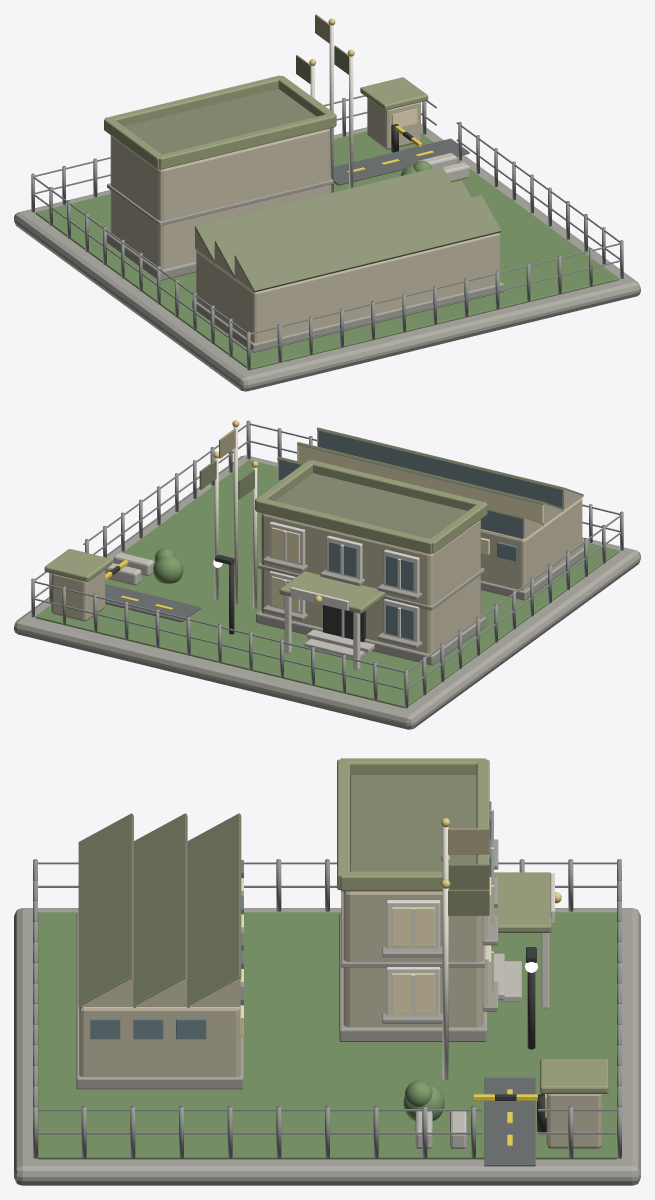
Rendered from treasury_6.glb.
The picture shows the model from 3 angles, top to bottom: view 1: azimuth 30°, elevation 25°; view 2: azimuth 150°, elevation 25°; view 3: azimuth 270°, elevation 25°; orthographic projection. The views are drawn at different scales.
Visible parts, largest first — view 1: Cube.001, Cube.034, Cube, Cube.014, Cube.029, Cube.065, Cube.031, Cube.033, Cube.066, Cube.015, Cube.067, Cube.002 (+12 smaller); view 2: Cube.001, Cube, Cube.034, Cube.065, Cube.014, Cube.028, Cube.030, Cube.067, Cube.066, Cube.006, Cube.072, Cube.035 (+34 smaller); view 3: Cube.001, Cube, Cube.065, Cube.034, Cube.014, Cube.029, Cube.033, Cube.031, Cube.002, Cube.072, Cube.015, Cube.006 (+28 smaller).
Part boxes in pixels (x1=…): Cube.001: x1=35, y1=131, x2=619, y2=369; Cube.034: x1=110, y1=129, x2=329, y2=269; Cube: x1=14, y1=123, x2=640, y2=391; Cube.014: x1=196, y1=233, x2=499, y2=342; Cube.029: x1=234, y1=195, x2=501, y2=292; Cube.065: x1=124, y1=88, x2=316, y2=154; Cube.031: x1=215, y1=180, x2=471, y2=277; Cube.033: x1=195, y1=166, x2=451, y2=263; Cube.066: x1=158, y1=113, x2=335, y2=169; Cube.015: x1=192, y1=281, x2=503, y2=352; Cube.067: x1=105, y1=75, x2=282, y2=126; Cube.002: x1=334, y1=138, x2=469, y2=185; Cube.001: x1=35, y1=460, x2=619, y2=708; Cube: x1=14, y1=455, x2=640, y2=729; Cube.034: x1=261, y1=513, x2=480, y2=653; Cube.065: x1=275, y1=473, x2=467, y2=538; Cube.014: x1=278, y1=479, x2=582, y2=590; Cube.028: x1=318, y1=431, x2=563, y2=508; Cube.030: x1=298, y1=445, x2=543, y2=523; Cube.067: x1=256, y1=497, x2=433, y2=553; Cube.066: x1=310, y1=460, x2=486, y2=510; Cube.006: x1=51, y1=569, x2=105, y2=621; Cube.072: x1=279, y1=571, x2=385, y2=613; Cube.035: x1=256, y1=609, x2=486, y2=665; Cube.001: x1=37, y1=912, x2=617, y2=1159; Cube: x1=14, y1=908, x2=640, y2=1185; Cube.065: x1=350, y1=775, x2=476, y2=871; Cube.034: x1=343, y1=891, x2=483, y2=1027; Cube.014: x1=79, y1=1007, x2=240, y2=1076; Cube.029: x1=78, y1=813, x2=133, y2=1007; Cube.033: x1=187, y1=813, x2=241, y2=1007; Cube.031: x1=133, y1=813, x2=187, y2=1007; Cube.002: x1=484, y1=1077, x2=535, y2=1166; Cube.072: x1=494, y1=872, x2=551, y2=932; Cube.015: x1=76, y1=913, x2=243, y2=1089; Cube.006: x1=546, y1=1094, x2=602, y2=1148.
Bounding box in the file's own units: 2.92 × 1.39 × 2.92.
